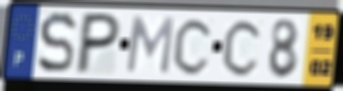8: (268, 18, 302, 81)
C: (220, 17, 265, 79), (171, 16, 216, 77)
M: (124, 14, 177, 77)
P: (72, 10, 124, 77)
S: (36, 10, 79, 76)
